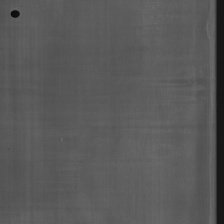punching_hole: (8, 6, 23, 21)
